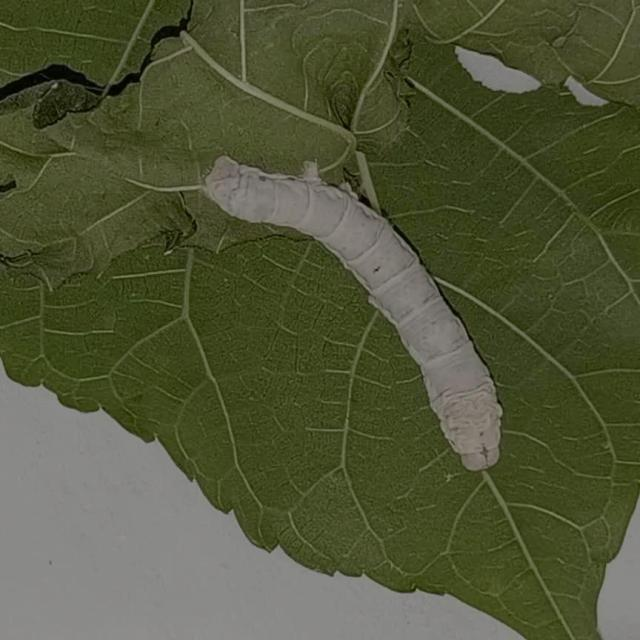Healthy: (196, 142, 520, 478)
